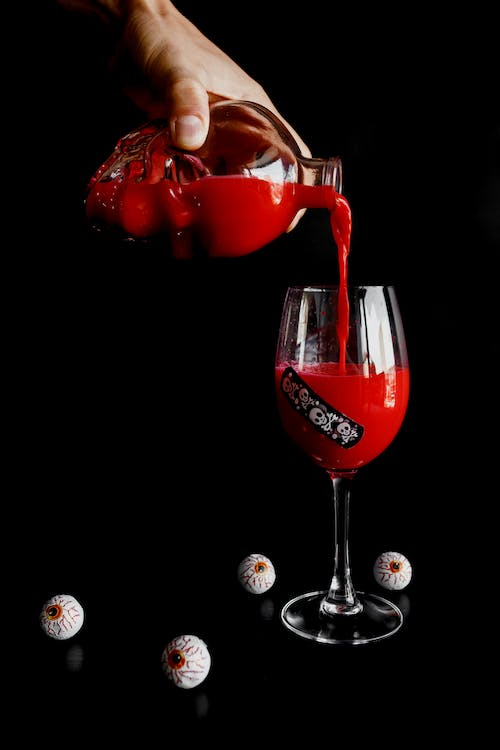blood: (77, 177, 342, 262), (273, 360, 410, 478), (330, 191, 356, 370)
